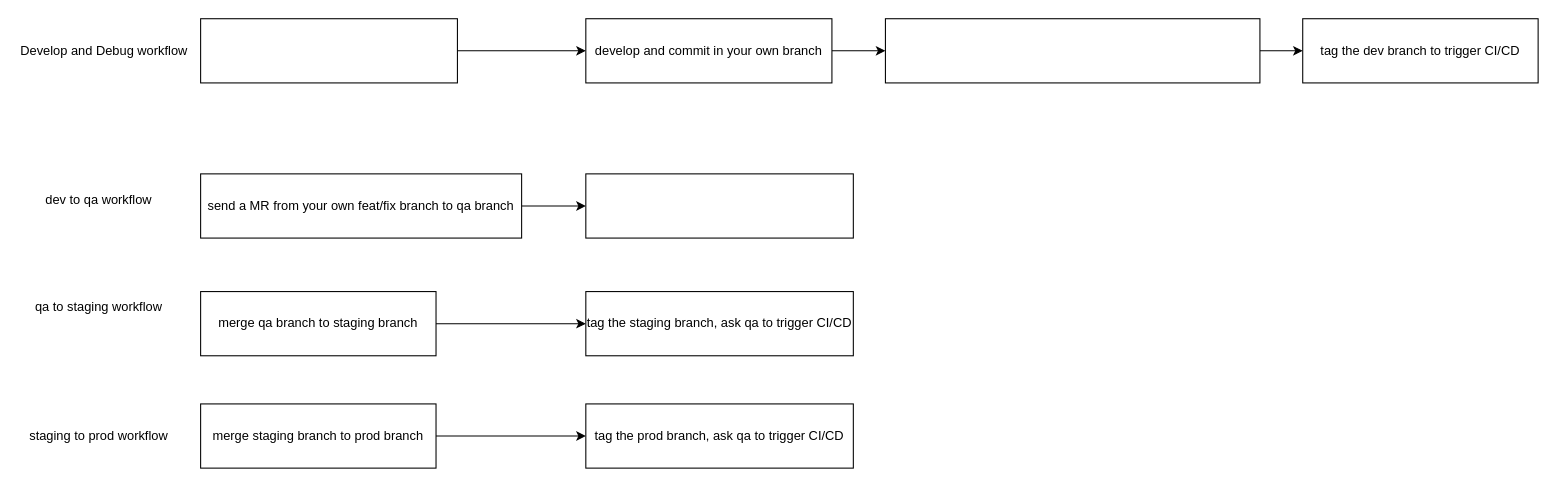
Image size: 1557x487. Some labels were removed from this diagram. Here are the shapes that lost their labels. From the top down, the centre of each, then its label:
(x=328, y=50): checkout a feat/fix branch from dev branch
(x=1072, y=50): to joint debug, cherry pick or merge your commit to dev branch
(x=719, y=205): tag the qa branch, ask qa to trigger CI/CD
